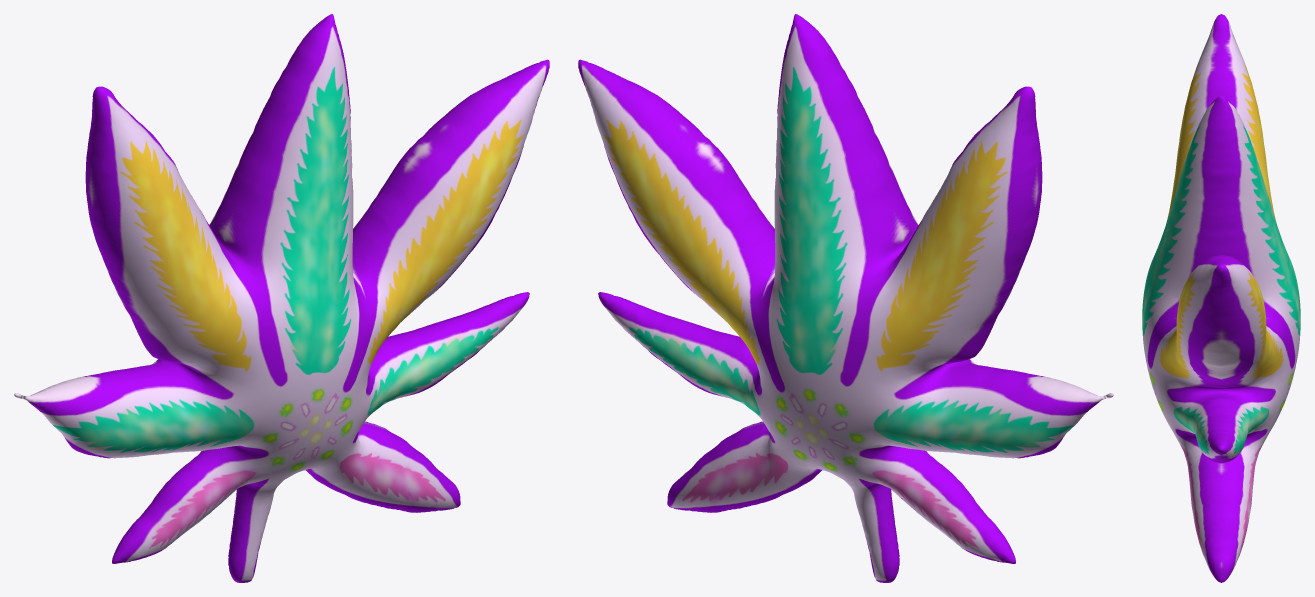
The model's file is wee.glb.
3 views of the same model, side by side, from view 1: azimuth 30°, elevation 25°; view 2: azimuth 150°, elevation 25°; view 3: azimuth 270°, elevation 25° (orthographic). The views are drawn at different scales.
Bounding box in the file's own units: 7.55 × 7.37 × 2.32.
1 material, 1 textured.
